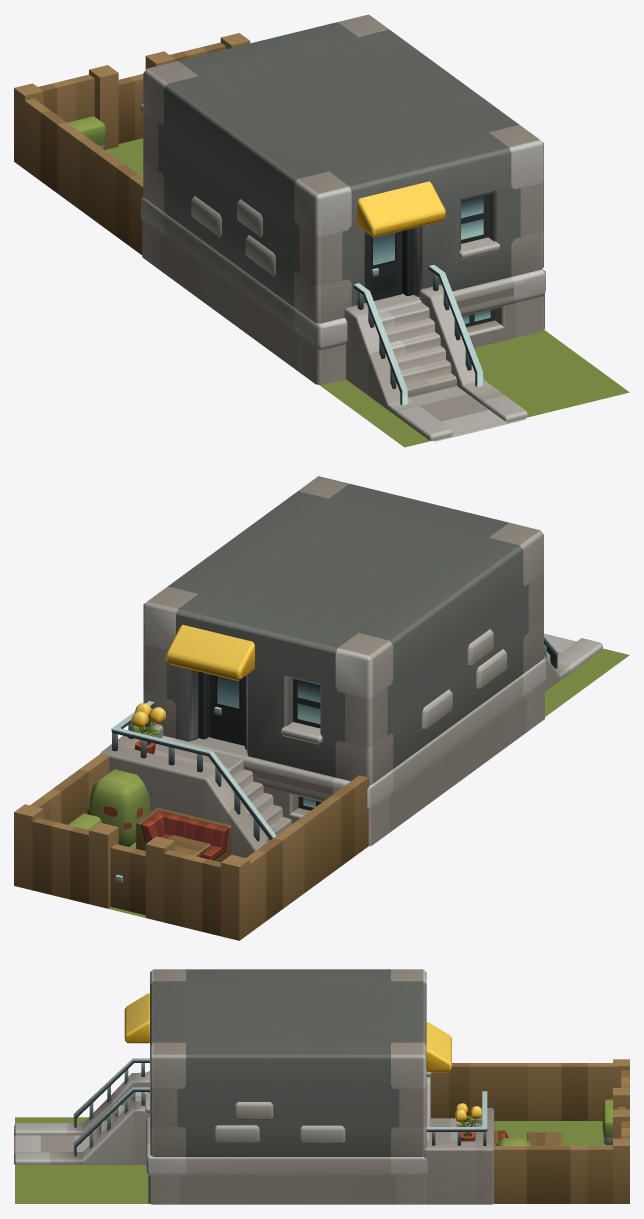
Rendered from appartment_type1_x3_ground_grey.fbx.
3 renders of one model, top to bottom at view 1: azimuth 30°, elevation 25°; view 2: azimuth 150°, elevation 25°; view 3: azimuth 270°, elevation 25°, orthographic. The views are drawn at different scales.
Parts seen in each view (by area): view 1: appartment_type1_x3_ground_grey, door_front_appartment_type1_x3_ground, door_garden_appartment_type1_x3_ground; view 2: appartment_type1_x3_ground_grey, door_back_appartment_type1_x3_ground, door_garden_appartment_type1_x3_ground; view 3: appartment_type1_x3_ground_grey.
Boxes of the visible parts, left/top/right/bottom form: appartment_type1_x3_ground_grey: left=14, top=14, right=629, bottom=447; door_front_appartment_type1_x3_ground: left=367, top=231, right=402, bottom=300; door_garden_appartment_type1_x3_ground: left=118, top=74, right=143, bottom=143; appartment_type1_x3_ground_grey: left=14, top=476, right=629, bottom=940; door_back_appartment_type1_x3_ground: left=209, top=674, right=244, bottom=745; door_garden_appartment_type1_x3_ground: left=110, top=844, right=145, bottom=915; appartment_type1_x3_ground_grey: left=14, top=969, right=629, bottom=1204.
Bounding box in the file's own units: 628 × 487 × 1803.
